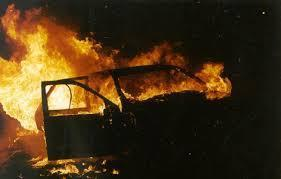fire: (0, 0, 229, 173)
